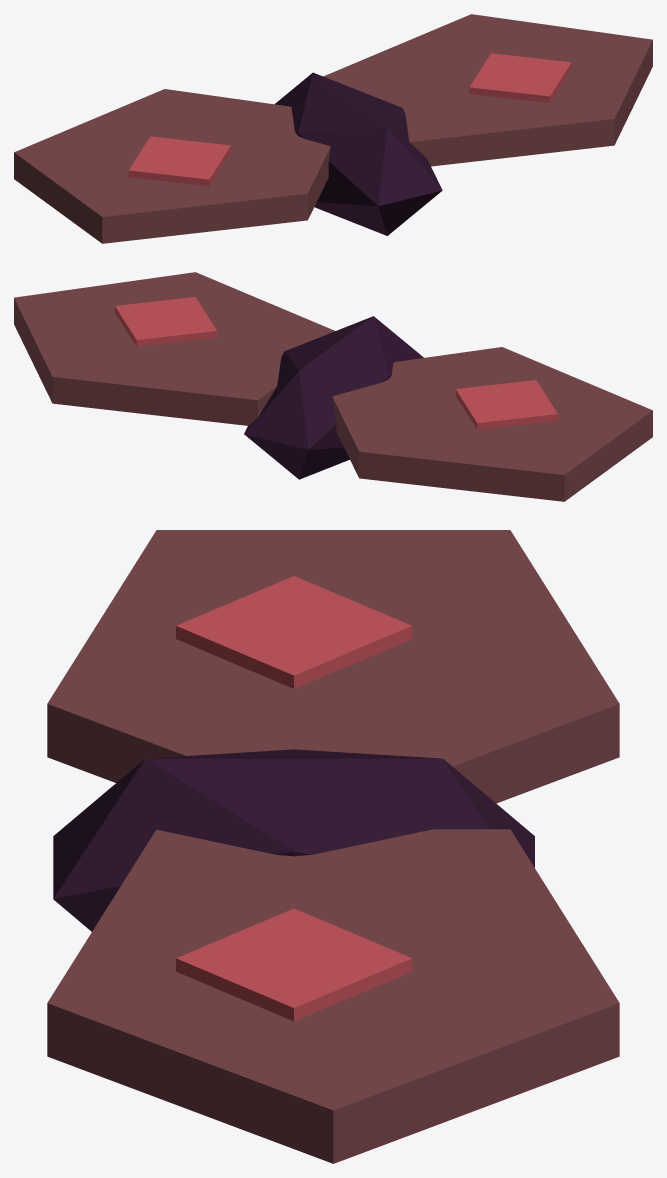
File: moth.glb
3 views of the same model, one above another, from view 1: azimuth 30°, elevation 25°; view 2: azimuth 150°, elevation 25°; view 3: azimuth 270°, elevation 25° (orthographic). The views are drawn at different scales.
Parts seen in each view (by area): view 1: WingL, WingR, Body, SpotL, SpotR; view 2: WingL, WingR, Body, SpotR, SpotL; view 3: WingR, WingL, Body, SpotR, SpotL.
Part boxes in pixels (x1,y1,x2,y2): WingL: [14, 89, 330, 243]; WingR: [323, 14, 652, 166]; Body: [275, 72, 442, 235]; SpotL: [128, 136, 230, 186]; SpotR: [469, 53, 571, 102]; WingL: [332, 347, 652, 501]; WingR: [14, 272, 335, 425]; Body: [244, 316, 423, 479]; SpotR: [115, 297, 217, 346]; SpotL: [455, 380, 557, 429]; WingR: [47, 829, 619, 1163]; WingL: [47, 530, 619, 803]; Body: [53, 749, 534, 931]; SpotR: [176, 908, 412, 1021]; SpotL: [176, 576, 412, 688].
Bounding box in the file's own units: 0.6983 × 0.1225 × 0.291.
